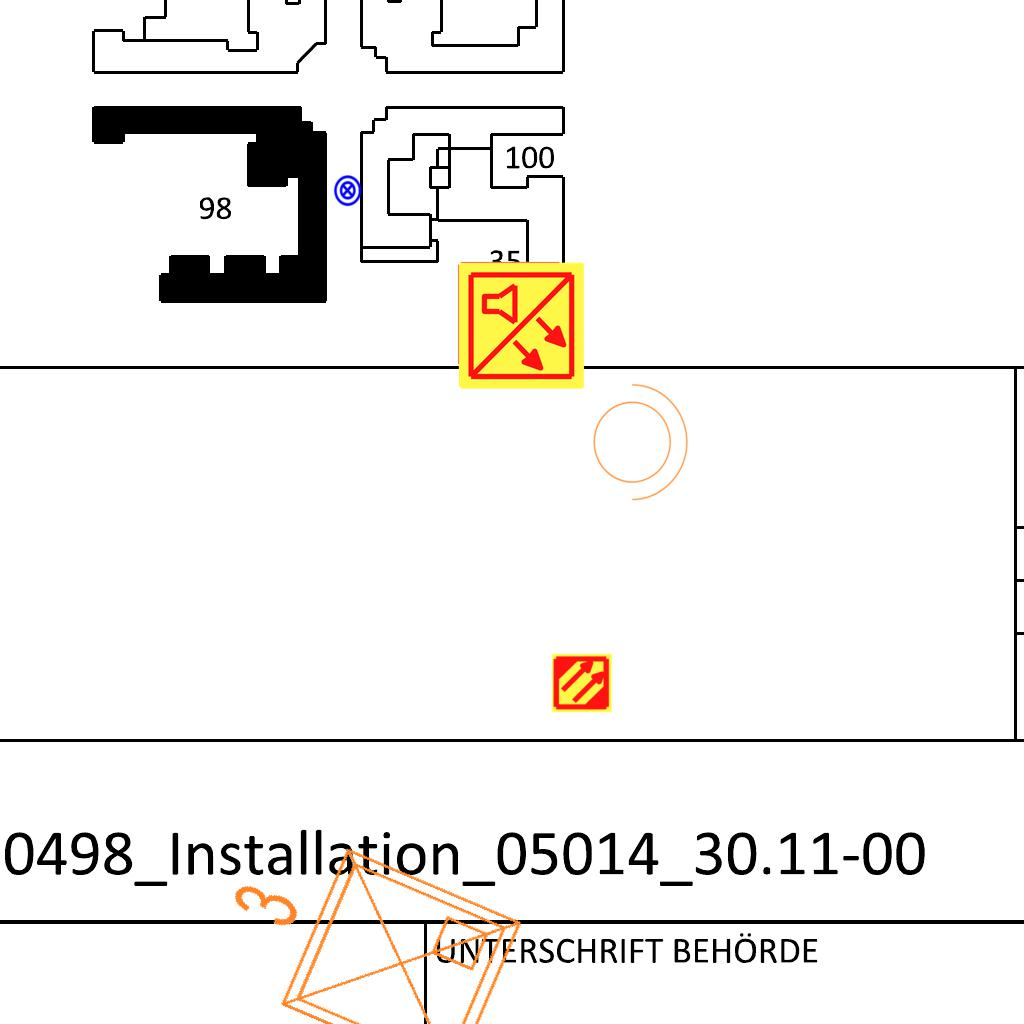ASR_Ansaugrauchmelder: (551, 652, 613, 714)
Einbaudownlights_LED_Konferenzraeume: (183, 796, 541, 1024)
OKW_Multisensormelder_(Kombination_optischer_Rauch-Kahlenmonoxid_Waerme-Melder): (455, 260, 587, 392)
Scheinwerfer_fuer_Alarmbeleuchtung: (581, 373, 693, 505)
Taster_beleuchtet: (331, 174, 364, 207)
